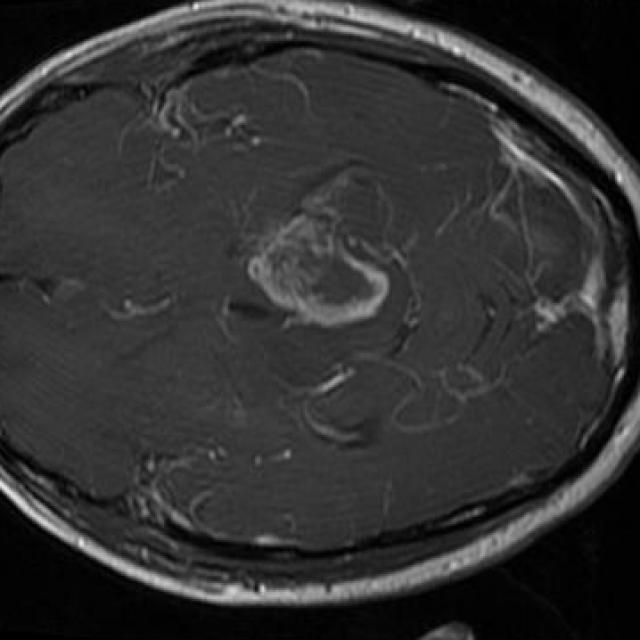glioma: (248, 198, 394, 328)
